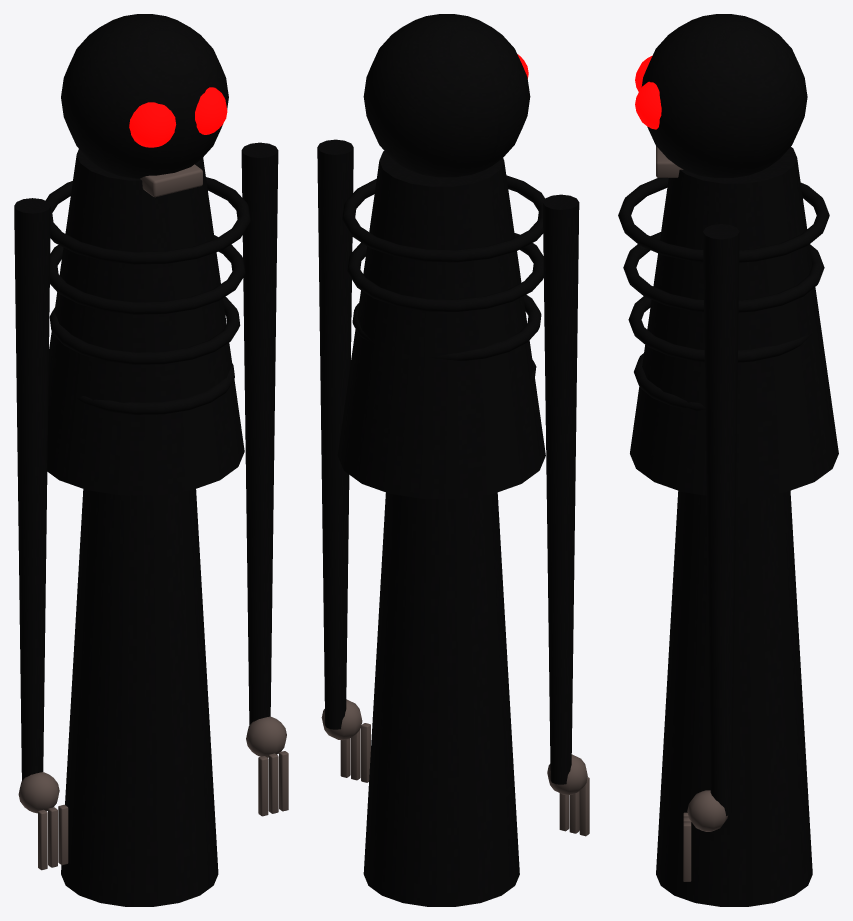
The model's file is stalker.glb.
3 views of the same model, side by side, from view 1: azimuth 30°, elevation 25°; view 2: azimuth 150°, elevation 25°; view 3: azimuth 270°, elevation 25° (orthographic).
Parts seen in each view (by area): view 1: legs, chest, skull, armL, armR, rib4, rib3, rib2, rib1, eyeL, handL, handR (+8 smaller); view 2: legs, chest, skull, armL, armR, rib4, rib3, rib2, handL, handR, clawR0, clawL2; view 3: legs, chest, skull, armR, rib4, rib3, rib2, handR, eyeR, rib1, clawR2, jaw.
Part boxes in pixels (x1,y1,x2,y2): legs: (61,489,218,906); chest: (47,149,244,495); skull: (61,14,228,178); armL: (14,198,50,780); armR: (241,142,278,725); rib4: (45,177,250,264); rib3: (50,235,245,314); rib2: (49,296,240,364); rib1: (77,363,234,414); eyeL: (129,102,176,147); handL: (18,772,59,813); handR: (246,716,286,757); legs: (363,492,519,906); chest: (337,151,545,498); skull: (363,14,530,177); armL: (542,194,579,784); armR: (317,139,353,729); rib4: (342,175,544,262); rib3: (347,233,543,311); rib2: (352,294,541,360); handL: (547,754,587,795); handR: (321,699,362,740); clawR0: (361,723,370,782); clawL2: (579,777,589,836); legs: (656,490,812,906); chest: (630,147,838,497); skull: (641,14,807,177); armR: (703,224,739,815); rib4: (618,178,829,262); rib3: (623,232,824,312); rib2: (628,296,813,362); handR: (687,790,727,831); eyeR: (635,81,661,129); rib1: (634,353,705,410); clawR2: (683,822,691,881); jaw: (656,146,683,177).
Size of the model in its own units: 1.15 by 3.6 by 0.845.
3 materials, 1 textured.
